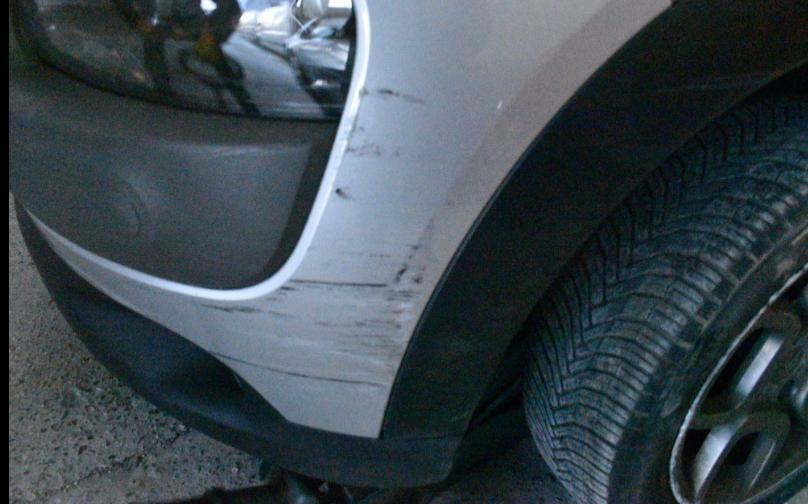Front-bumper: (11, 1, 806, 489)
Front-wheel: (518, 67, 805, 503)
Headlight: (9, 2, 357, 119)
